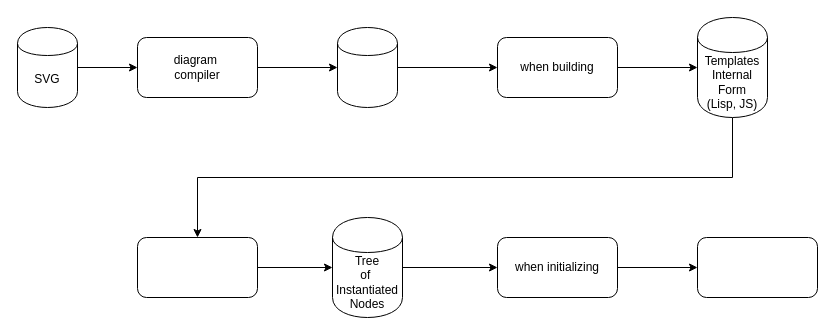
This 835x335 diagram has some shape labels left out. Each missing label, with the centre of its shape:
Templates as JSON: the point at 367,67
when loading: the point at 197,267
when running: the point at 757,267
